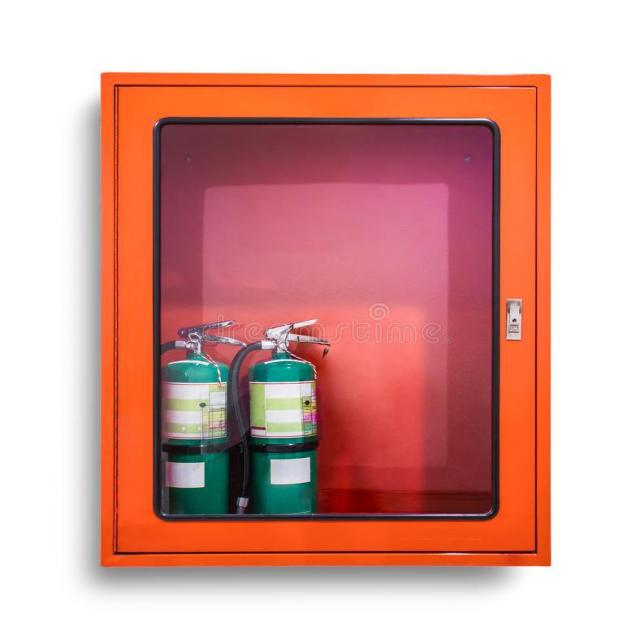fire_extinguisher: (137, 318, 251, 526), (226, 316, 334, 529)
